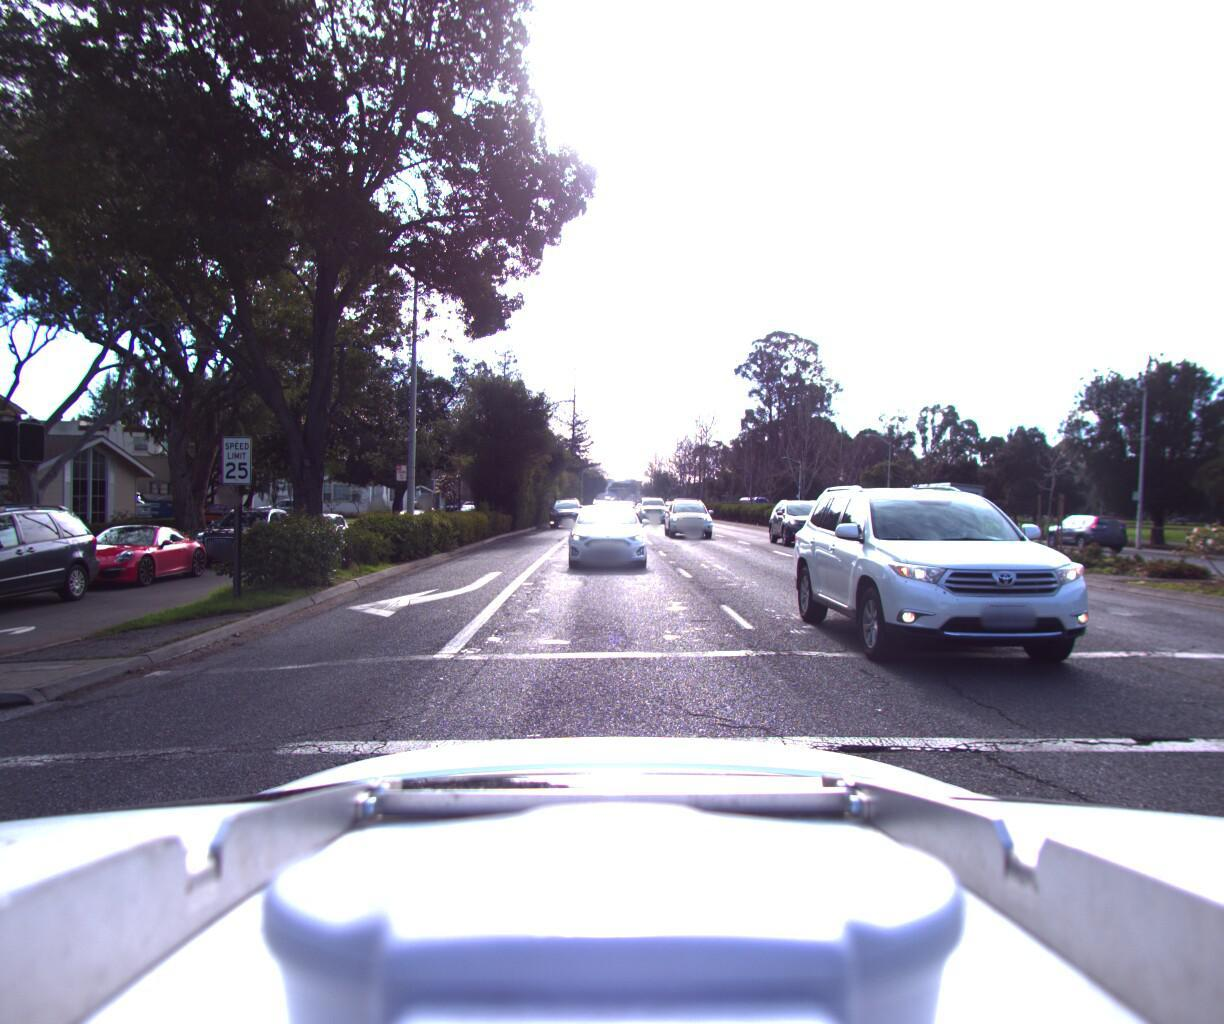car: (804, 467, 1224, 744), (0, 494, 122, 639), (32, 514, 222, 595), (184, 501, 310, 569), (560, 498, 651, 575), (35, 483, 160, 530), (771, 494, 856, 553), (269, 507, 358, 559), (1026, 510, 1115, 547), (663, 493, 723, 540), (176, 497, 258, 531), (387, 503, 437, 535), (543, 499, 582, 530), (634, 494, 668, 524)
truck: (889, 471, 988, 541)
